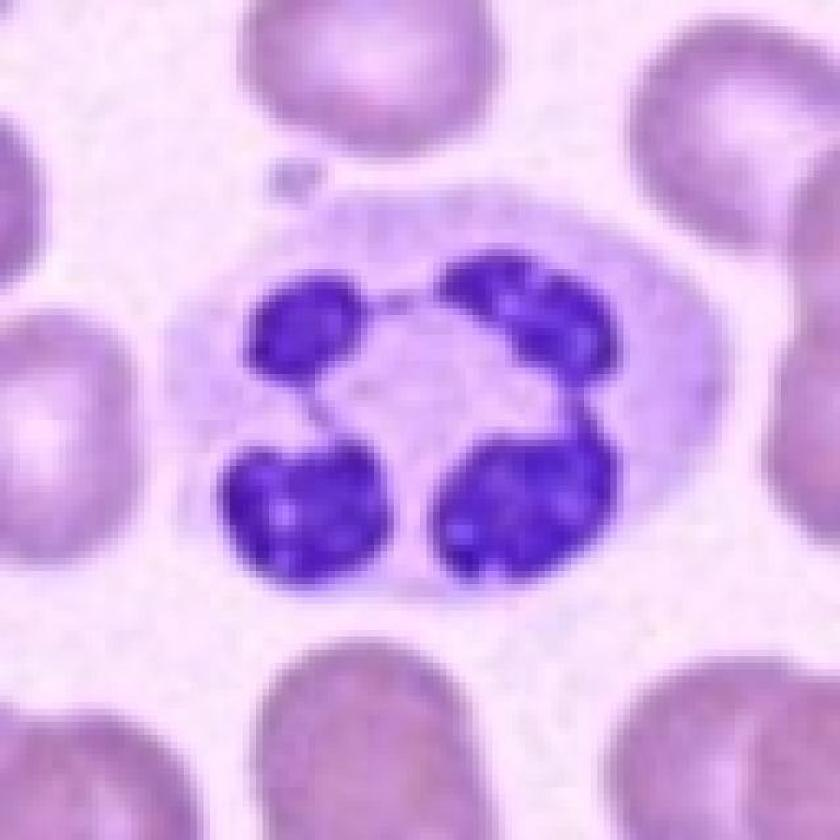neutrophil: (89, 194, 682, 683)
